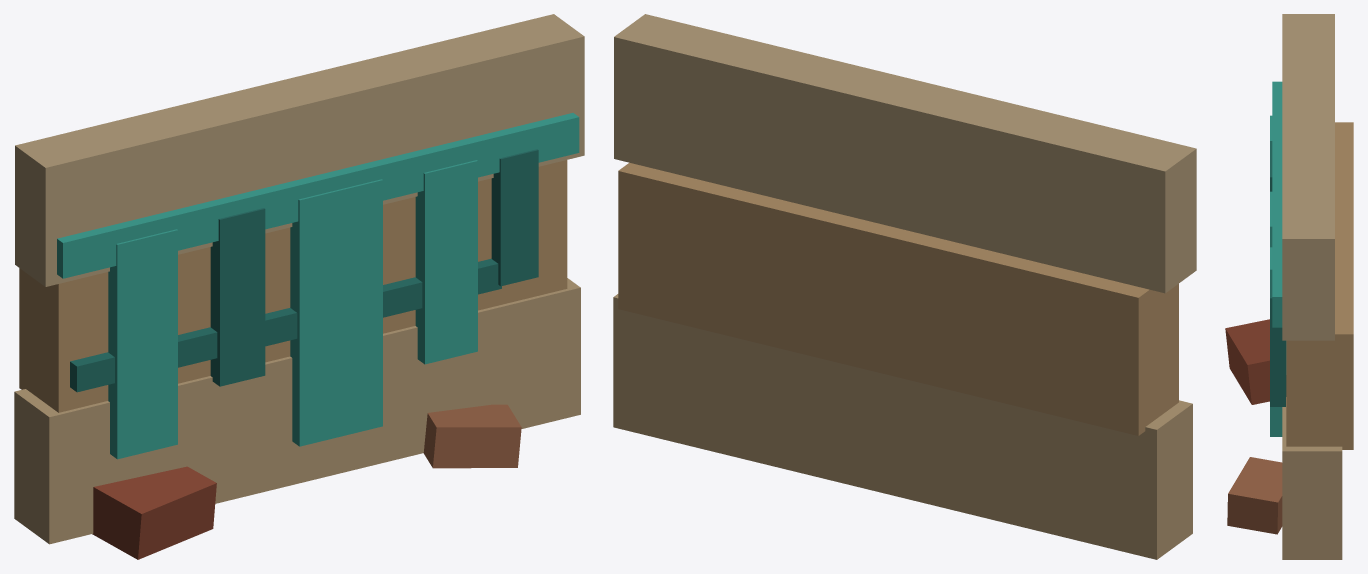
File: copper_vein_face.glb
3 renders of one model, left to right at view 1: azimuth 30°, elevation 25°; view 2: azimuth 150°, elevation 25°; view 3: azimuth 270°, elevation 25°, orthographic. The views are drawn at different scales.
Visible parts, largest first — view 1: CopperVeinFace; view 2: CopperVeinFace; view 3: CopperVeinFace.
Part boxes in pixels (bbox=[...]): CopperVeinFace: bbox=[14, 14, 584, 559]; CopperVeinFace: bbox=[613, 14, 1196, 559]; CopperVeinFace: bbox=[1225, 14, 1353, 559].
Size of the model in its own units: 14.2 by 9.73 by 3.43.
